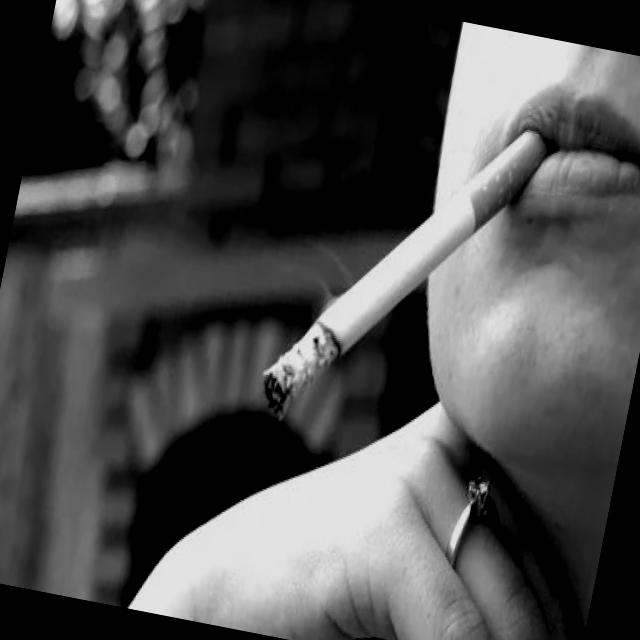smoke: (247, 80, 557, 471)
